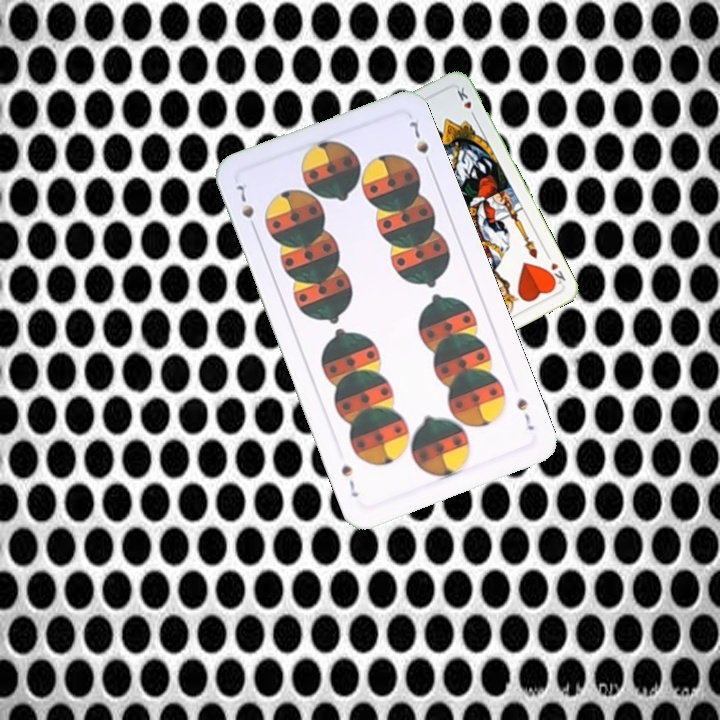HK: (543, 258, 568, 288)
S7: (233, 180, 260, 235), (512, 394, 537, 433)
